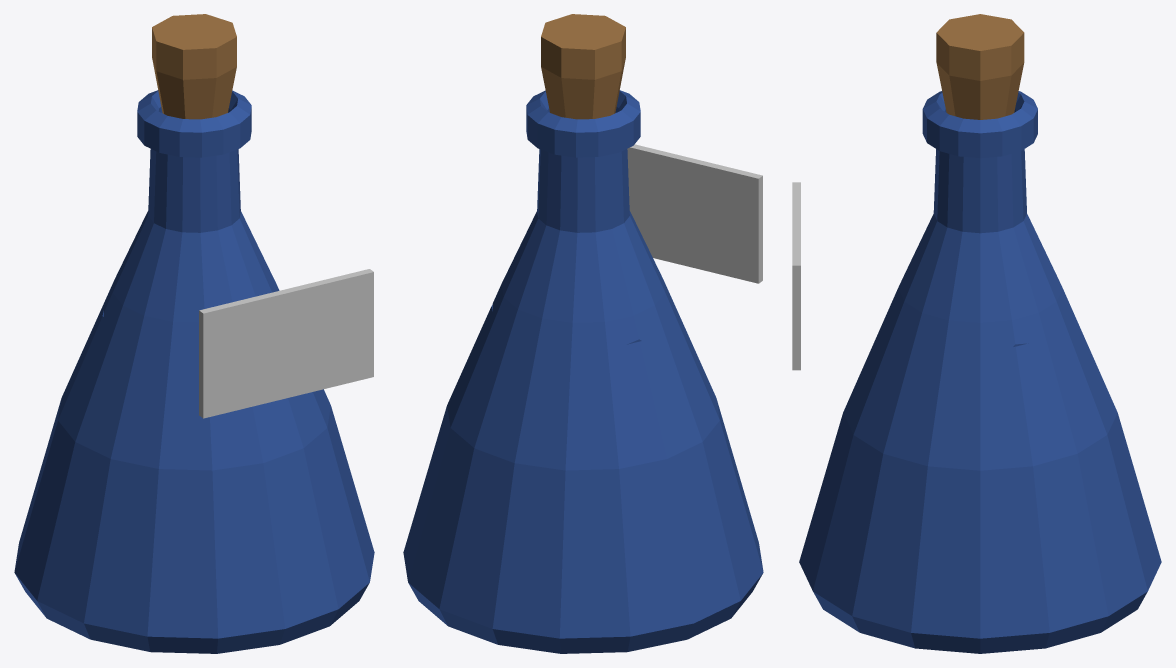
The model's file is hi_ether.obj.
The picture shows the model from 3 angles, left to right: view 1: azimuth 30°, elevation 25°; view 2: azimuth 150°, elevation 25°; view 3: azimuth 270°, elevation 25°; orthographic projection.
Visible parts, largest first — view 1: A_Flask.001_hi_ether_glass, C_Label.001_hi_ether_label, S_Cork.001_hi_ether_cork; view 2: A_Flask.001_hi_ether_glass, C_Label.001_hi_ether_label, S_Cork.001_hi_ether_cork; view 3: A_Flask.001_hi_ether_glass, S_Cork.001_hi_ether_cork, C_Label.001_hi_ether_label.
Part boxes in pixels (<box>): A_Flask.001_hi_ether_glass: <box>14,90,374,653</box>; C_Label.001_hi_ether_label: <box>199,269,373,418</box>; S_Cork.001_hi_ether_cork: <box>152,14,236,119</box>; A_Flask.001_hi_ether_glass: <box>403,90,763,653</box>; C_Label.001_hi_ether_label: <box>627,144,762,283</box>; S_Cork.001_hi_ether_cork: <box>541,14,625,119</box>; A_Flask.001_hi_ether_glass: <box>799,91,1161,653</box>; S_Cork.001_hi_ether_cork: <box>936,14,1024,119</box>; C_Label.001_hi_ether_label: <box>792,182,800,370</box>.
Size of the model in its own units: 1.25 by 2.1 by 1.28.
